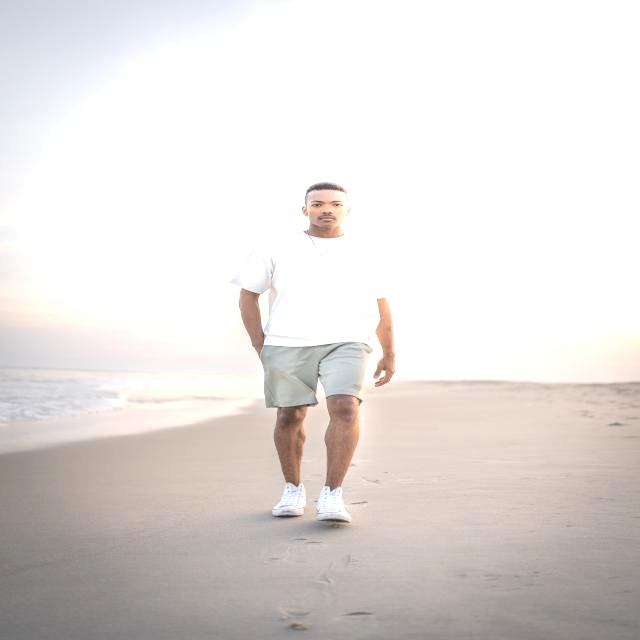Shorts: (249, 337, 383, 482)
